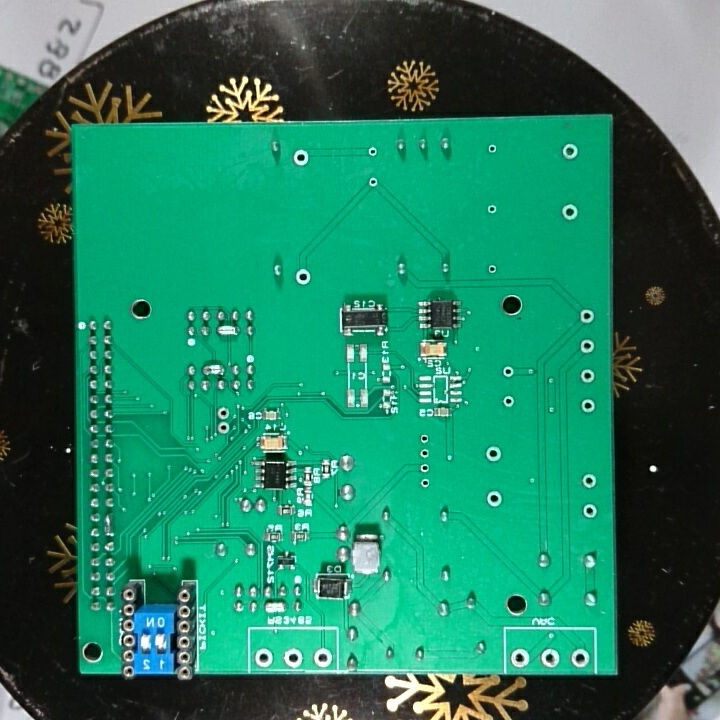F: (280, 646, 306, 669), (508, 646, 532, 668), (252, 646, 274, 670), (311, 646, 334, 668), (570, 645, 591, 669), (291, 147, 313, 169), (539, 648, 562, 669), (483, 487, 504, 509), (482, 443, 503, 464), (559, 140, 579, 162), (578, 335, 597, 357), (293, 266, 312, 288), (577, 306, 597, 326), (580, 500, 599, 520), (500, 391, 519, 411), (579, 365, 597, 386), (579, 471, 597, 492), (580, 396, 597, 418), (561, 201, 579, 220), (500, 363, 517, 383), (214, 405, 233, 422), (214, 420, 231, 438), (417, 474, 434, 492), (484, 259, 500, 277), (484, 200, 499, 219), (365, 143, 381, 160), (417, 459, 433, 476), (417, 431, 432, 448), (417, 446, 433, 461), (366, 174, 379, 191), (486, 142, 499, 155)
P: (262, 597, 288, 615), (216, 323, 241, 340), (201, 360, 225, 376), (102, 514, 116, 538)
